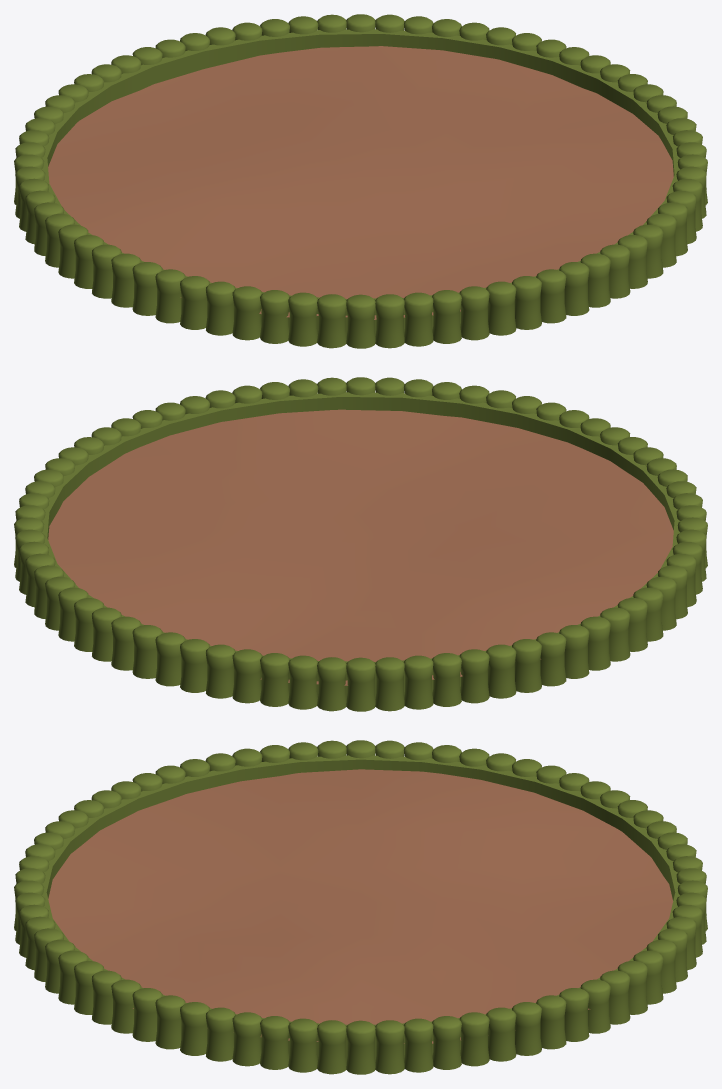
Rendered from Flower bed.fbx.
3 renders of one model, top to bottom at view 1: azimuth 30°, elevation 25°; view 2: azimuth 150°, elevation 25°; view 3: azimuth 270°, elevation 25°, orthographic.
Visible parts, largest first — view 1: Flower bed; view 2: Flower bed; view 3: Flower bed.
Boxes of the visible parts, x1,y1,x2,y2 form: Flower bed: (14,14,707,348); Flower bed: (14,377,707,711); Flower bed: (14,740,707,1074).
Size of the model in its own units: 1026 by 69.4 by 1026.
